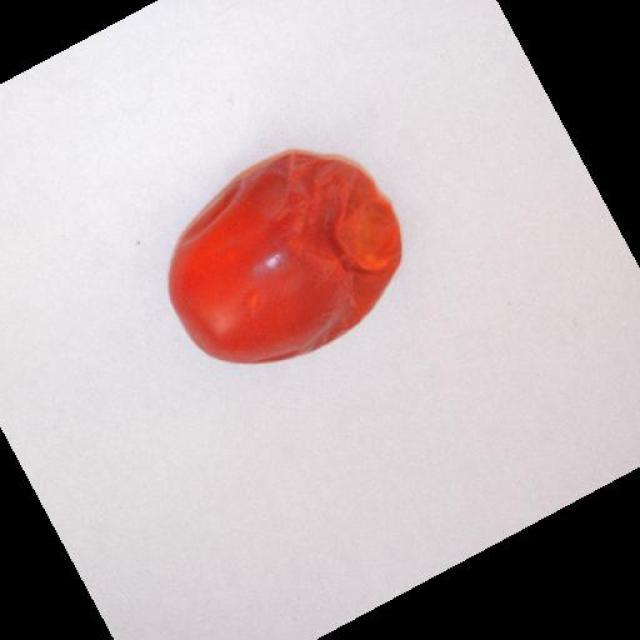Stale_tomato: (178, 162, 408, 376)
